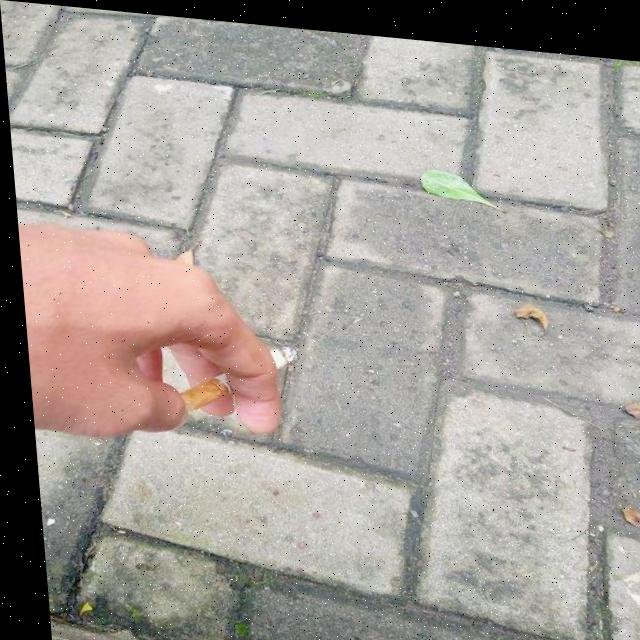cigarette: (169, 332, 293, 416)
